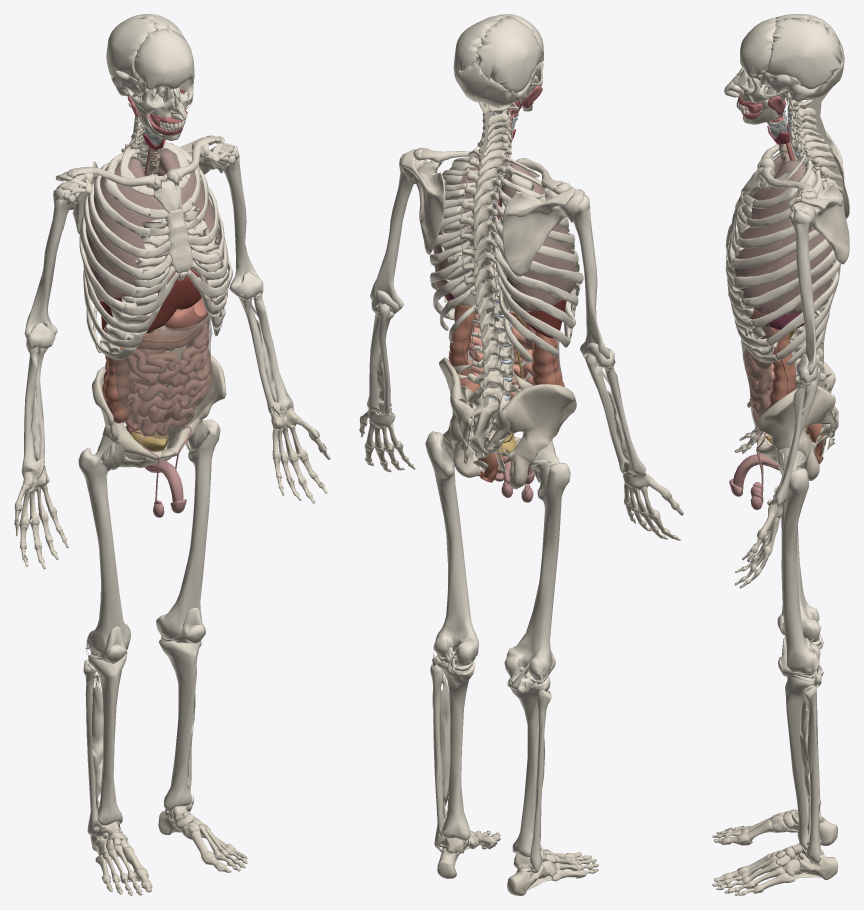
File: body.b4f0f72f.glb
3 views of the same model, side by side, from view 1: azimuth 30°, elevation 25°; view 2: azimuth 150°, elevation 25°; view 3: azimuth 270°, elevation 25° (orthographic). The views are drawn at different scales.
Visible parts, largest first — view 1: other, leg_right, leg_left, skull, small_intestine, ribcage_mesh, arm_right, arm_left, lungs, shoulder_girdle, pelvis, large_intestine (+15 smaller); view 2: leg_left, leg_right, pelvis, shoulder_girdle, skull, arm_right, arm_left, spine_mesh, other, large_intestine, ribcage_mesh, lungs (+10 smaller); view 3: leg_left, skull, other, lungs, arm_left, shoulder_girdle, pelvis, foot_left, ribcage_mesh, foot_right, large_intestine, hand_left (+18 smaller).
Part boxes in pixels (x1,y1,x2,y2): other: [85, 149, 226, 439]; leg_right: [78, 435, 130, 835]; leg_left: [156, 419, 220, 811]; skull: [106, 14, 194, 140]; small_intestine: [125, 323, 211, 436]; ribcage_mesh: [99, 148, 229, 353]; arm_right: [21, 188, 76, 475]; arm_left: [223, 145, 293, 414]; lungs: [86, 150, 222, 301]; shoulder_girdle: [55, 135, 238, 234]; pelvis: [92, 347, 226, 467]; large_intestine: [102, 316, 211, 433]; leg_left: [425, 425, 478, 847]; leg_right: [504, 440, 570, 872]; pelvis: [439, 357, 576, 489]; shoulder_girdle: [401, 147, 589, 276]; skull: [453, 14, 543, 113]; arm_right: [573, 196, 645, 475]; arm_left: [367, 152, 413, 414]; spine_mesh: [460, 97, 517, 472]; other: [433, 155, 576, 392]; large_intestine: [448, 304, 564, 482]; ribcage_mesh: [440, 162, 580, 338]; lungs: [434, 156, 575, 311]; leg_left: [775, 447, 823, 862]; skull: [724, 14, 844, 124]; other: [734, 155, 832, 430]; lungs: [735, 156, 831, 314]; arm_left: [773, 209, 820, 506]; shoulder_girdle: [757, 124, 849, 264]; pelvis: [757, 357, 837, 480]; foot_left: [712, 843, 837, 895]; ribcage_mesh: [726, 152, 834, 356]; foot_right: [712, 809, 837, 845]; large_intestine: [753, 326, 826, 464]; hand_left: [734, 485, 782, 588].
Bounding box in the file's own units: 1.97 × 5 × 0.7367.
